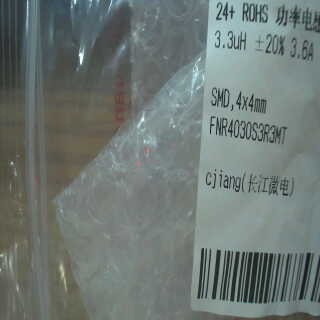3.3uH: (211, 26, 257, 55)
